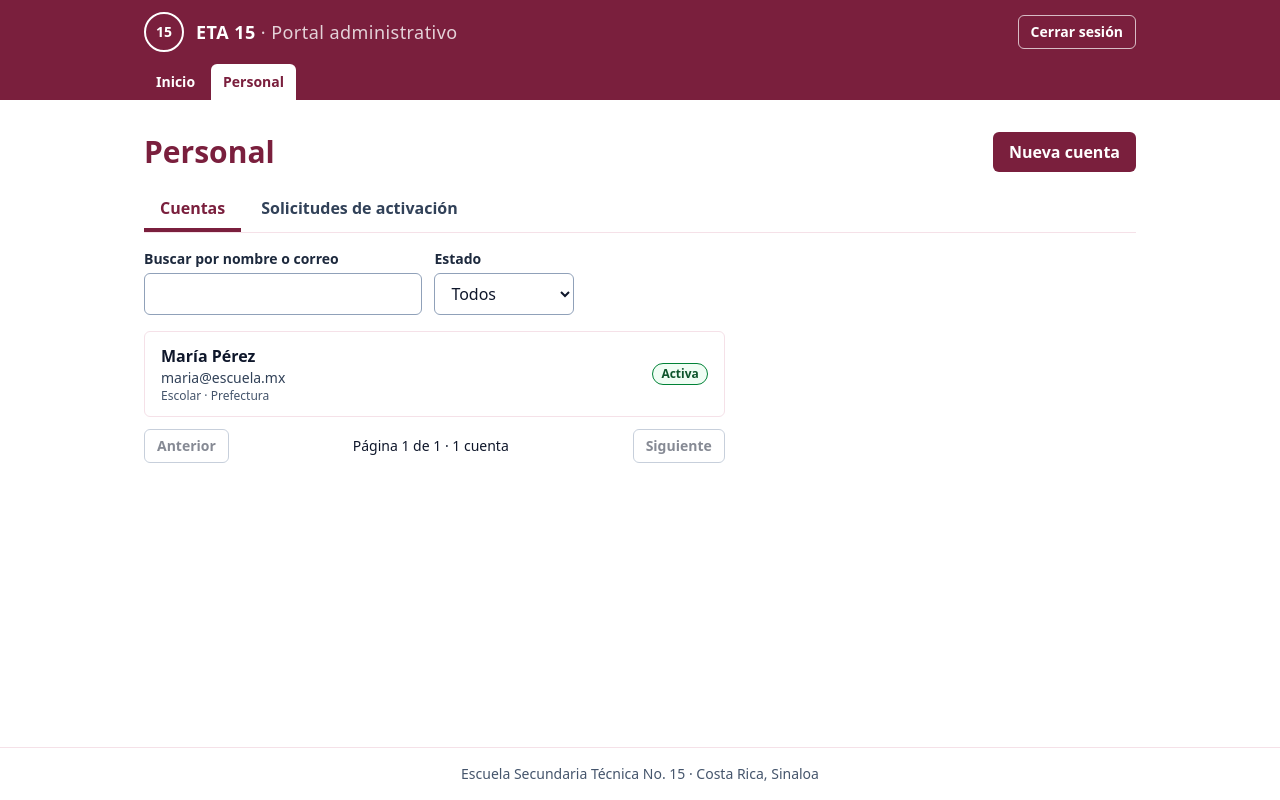
Test case: detalle, roles y deshabilitar › muestra el detalle sin datos sensibles y con controles para quien puede conceder roles
The width and height of the screenshot is (1280, 800).
Click the text "María Pérez": point(208, 356) [161,345,255,367]
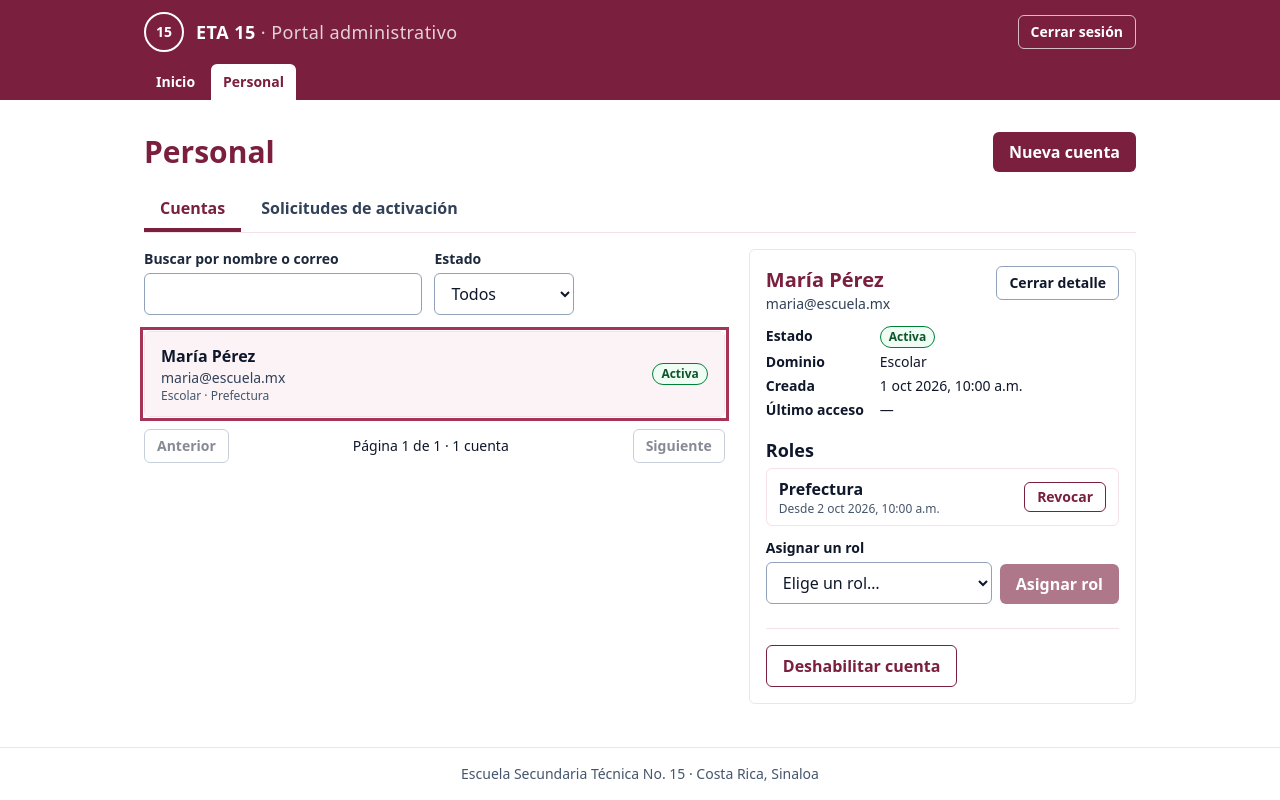
Expected: the text "Prefectura" is shown, [779,478,863,500]
Expected: the button with aria-label "Revocar el rol Prefectura" is shown, [1024,482,1106,512]
Expected: the dropdown labelled "Asignar un rol" is shown, [766,562,992,604]
